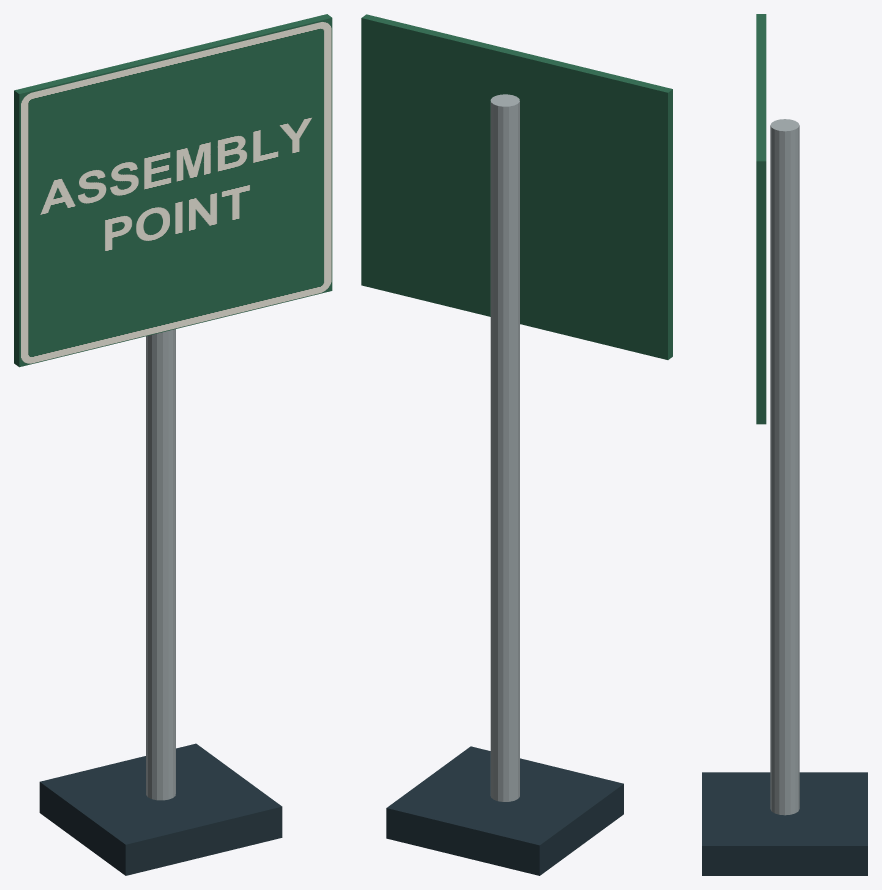
File: scendance-plan-evacuation-meeting-point.glb
3 renders of one model, left to right at view 1: azimuth 30°, elevation 25°; view 2: azimuth 150°, elevation 25°; view 3: azimuth 270°, elevation 25°, orthographic. The views are drawn at different scales.
Size of the model in its own units: 0.84 by 2 by 0.4.
Materials: 4 (1 with a texture image).
